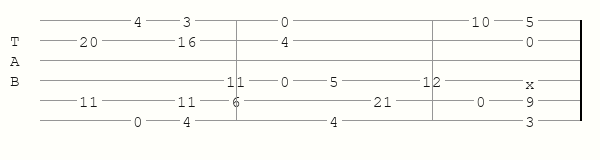0: (133, 113, 147, 127), (280, 73, 294, 87), (280, 13, 294, 27), (476, 93, 490, 107), (525, 33, 539, 47)
10: (471, 13, 495, 27)
11: (79, 93, 103, 107), (177, 93, 201, 107), (226, 73, 250, 87)
12: (422, 73, 446, 87)
16: (177, 33, 201, 47)
20: (79, 33, 103, 47)
21: (373, 93, 397, 107)
3: (182, 13, 196, 27), (525, 113, 539, 127)
4: (133, 13, 147, 27), (182, 113, 196, 127), (280, 33, 294, 47), (329, 113, 343, 127)
5: (329, 73, 343, 87), (525, 13, 539, 27)
6: (231, 93, 245, 107)
9: (525, 93, 539, 107)
x: (525, 75, 539, 86)
